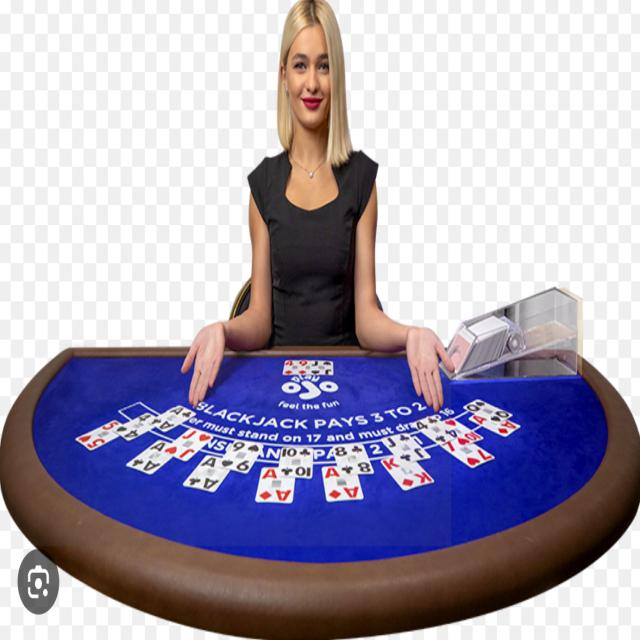Card-10: (445, 417, 482, 446), (280, 446, 313, 478)
Card-4: (411, 414, 462, 444), (116, 411, 156, 441), (282, 359, 299, 374)
Card-5: (75, 417, 121, 451)
Card-7: (442, 436, 495, 467)
Card-8: (334, 443, 374, 475)
Card-9: (221, 440, 263, 473), (298, 359, 311, 373)
Card-A: (183, 455, 229, 493), (126, 438, 173, 474), (322, 465, 363, 502), (257, 465, 295, 503), (153, 405, 196, 432), (471, 413, 520, 435)
Card-J: (166, 427, 212, 460), (384, 431, 429, 464), (311, 359, 333, 375)
Card-K: (381, 454, 433, 492)
Card-Q: (463, 397, 513, 420)
